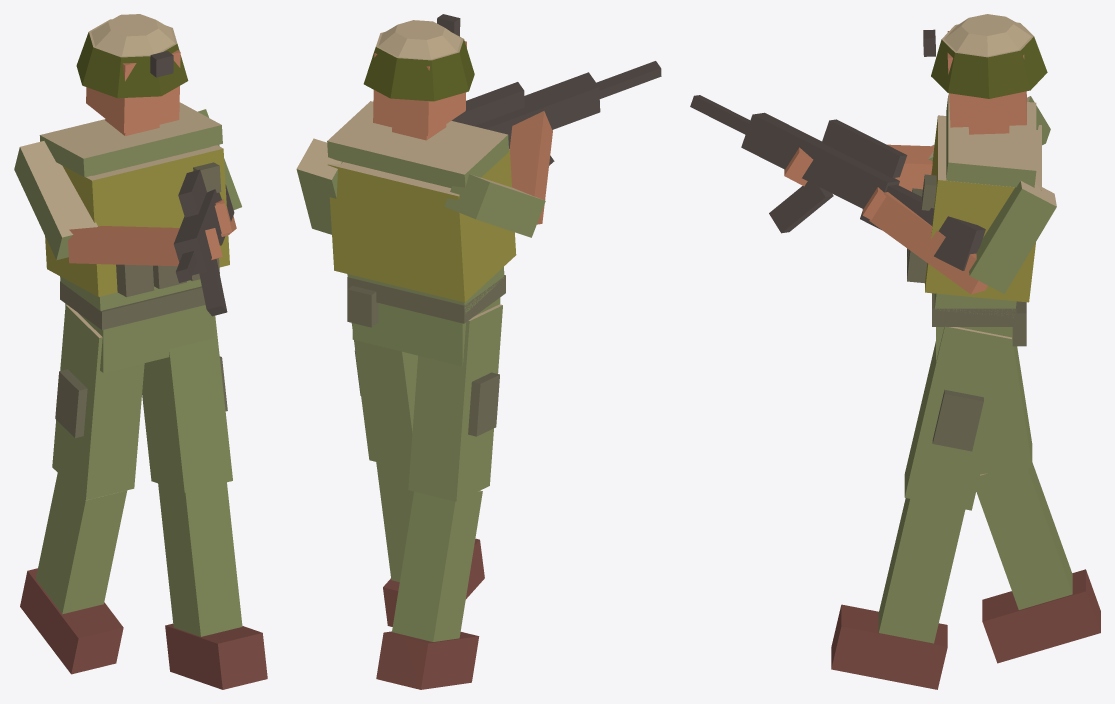
The model's file is SM_SoldadoArmado_v2_G36E_Apuntando_LOD0.fbx.
3 views of the same model, side by side, from view 1: azimuth 30°, elevation 25°; view 2: azimuth 150°, elevation 25°; view 3: azimuth 270°, elevation 25° (orthographic).
Parts seen in each view (by area): view 1: SM_bloques.soldado_armado_v2_LOD0; view 2: SM_bloques.soldado_armado_v2_LOD0; view 3: SM_bloques.soldado_armado_v2_LOD0.
Part boxes in pixels (x1,y1,x2,y2): SM_bloques.soldado_armado_v2_LOD0: (14,14,267,689); SM_bloques.soldado_armado_v2_LOD0: (296,14,661,689); SM_bloques.soldado_armado_v2_LOD0: (690,14,1100,689).
Size of the model in its own units: 0.5789 by 1.77 by 1.02.
